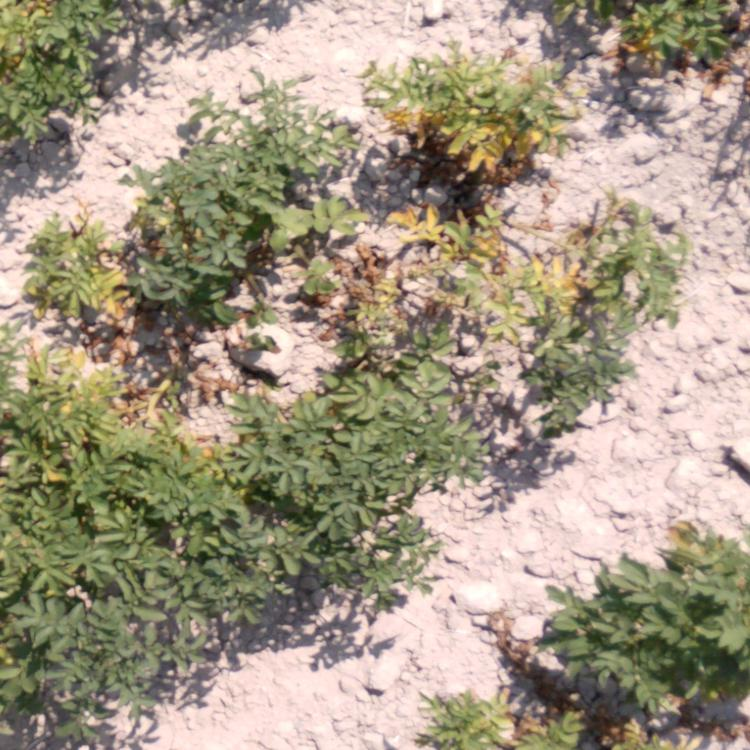healthy: (272, 358, 497, 517), (6, 536, 172, 750), (182, 94, 349, 286), (556, 529, 750, 687), (177, 532, 378, 645), (427, 691, 641, 750), (532, 348, 630, 433)
stressed: (353, 199, 678, 342), (1, 351, 248, 521), (364, 39, 554, 196), (24, 210, 178, 345), (1, 1, 119, 145), (558, 1, 750, 72)
